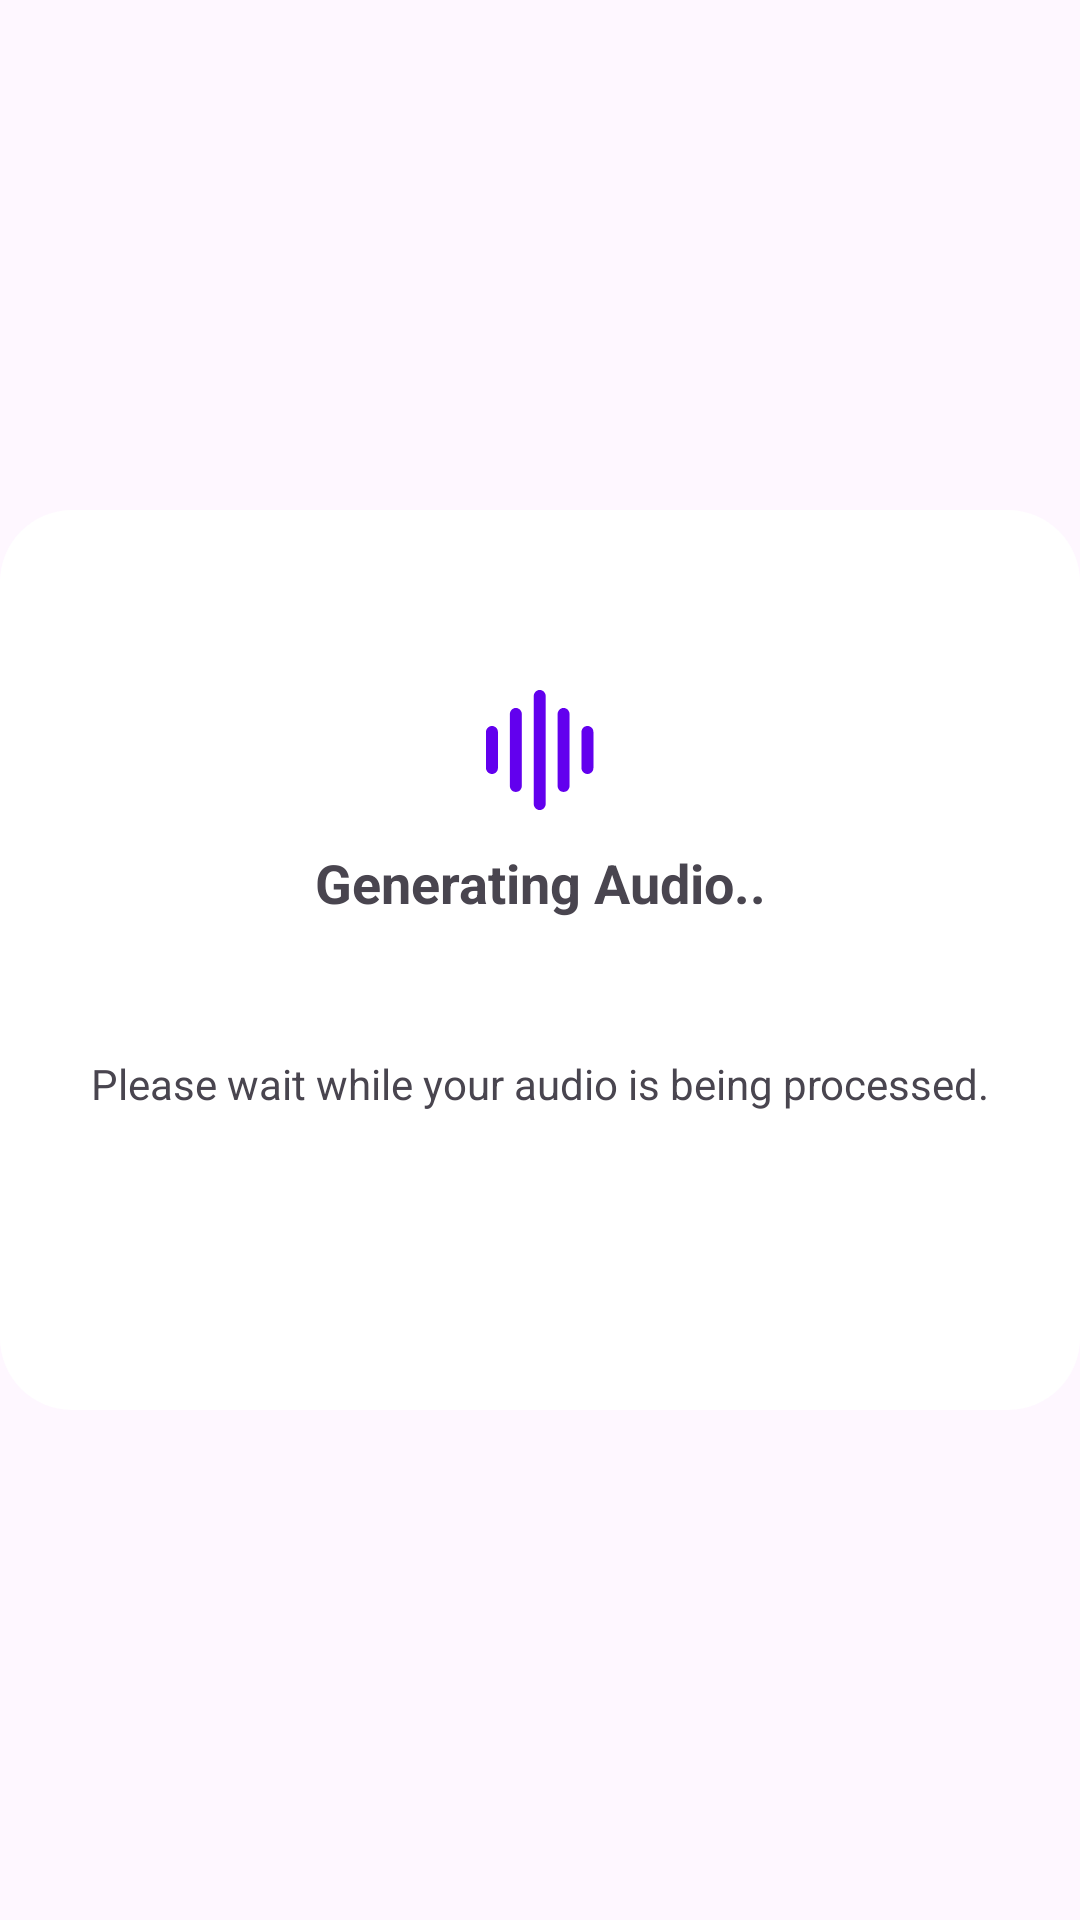

Screen size 1080px x 1920px. Icon name, then its center in pixels as (x=x, y=y):
audio wave: (x=540, y=750)
